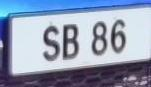6: (109, 16, 130, 60)
8: (89, 17, 110, 62)
B: (61, 20, 83, 65)
S: (38, 19, 63, 68)
